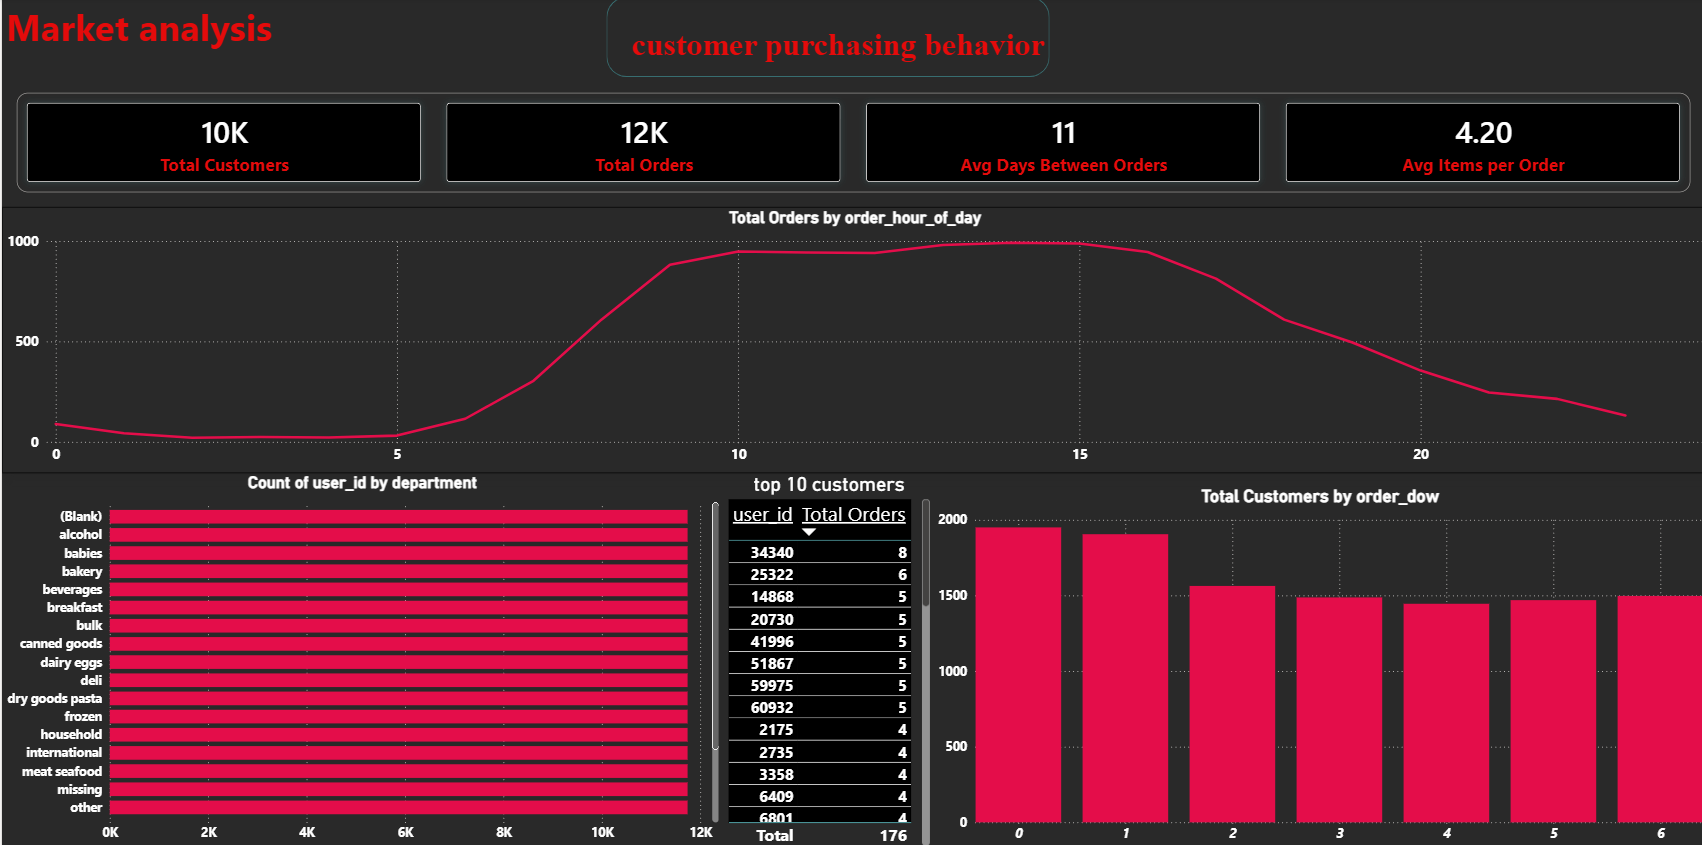

This screenshot's page, from the dashboard's own definition file:
{"tool":"powerbi","page":{"name":"Page 2","canvas":[2000,1000],"ordinal":1},"visuals":[{"type":"textbox","box":[0,0,338.5,97.9],"z":0},{"type":"cardVisual","fields":{"Data":["orders.Total Customers","orders.Total Orders","orders.Avg Days Between Orders","order-product_train.Avg Items per Order"]},"box":[0,94.6,1999.2,151.4],"z":1000},{"type":"lineChart","fields":{"Category":["orders.order_hour_of_day"],"Y":["orders.Total Orders"]},"box":[0,246.1,1999.2,312.3],"z":2000},{"type":"columnChart","fields":{"Category":["orders.order_dow"],"Y":["orders.Total Customers"]},"box":[1092.3,572.7,907,428],"z":3000},{"type":"barChart","fields":{"Category":["departments.department"],"Y":["CountNonNull(orders.user_id)"]},"box":[0,557.8,845.3,442.9],"z":4000},{"type":"tableEx","title":"top 10 customers","fields":{"Values":["orders.user_id","orders.Total Orders"]},"box":[845.3,557.8,247,442.9],"z":5000},{"type":"textbox","box":[732.4,27.7,538.7,70.3],"z":7000},{"type":"shape","box":[709,0,519.5,93.7],"z":8000}]}

Visuals, with their boxes in screenshot pixels (x1, y1, x2, y2), scaled from the page's 2000x1000 canvas onto the 1702x845 screenshot:
textbox: {"left": 0, "top": 0, "right": 288, "bottom": 83}
cardVisual - orders.Total Customers x orders.Total Orders: {"left": 0, "top": 80, "right": 1701, "bottom": 208}
lineChart - orders.order_hour_of_day x orders.Total Orders: {"left": 0, "top": 208, "right": 1701, "bottom": 472}
columnChart - orders.order_dow x orders.Total Customers: {"left": 930, "top": 484, "right": 1701, "bottom": 844}
barChart - departments.department x CountNonNull(orders.user_id): {"left": 0, "top": 471, "right": 719, "bottom": 844}
"top 10 customers" tableEx: {"left": 719, "top": 471, "right": 930, "bottom": 844}
textbox: {"left": 623, "top": 23, "right": 1082, "bottom": 83}
shape: {"left": 603, "top": 0, "right": 1045, "bottom": 79}
